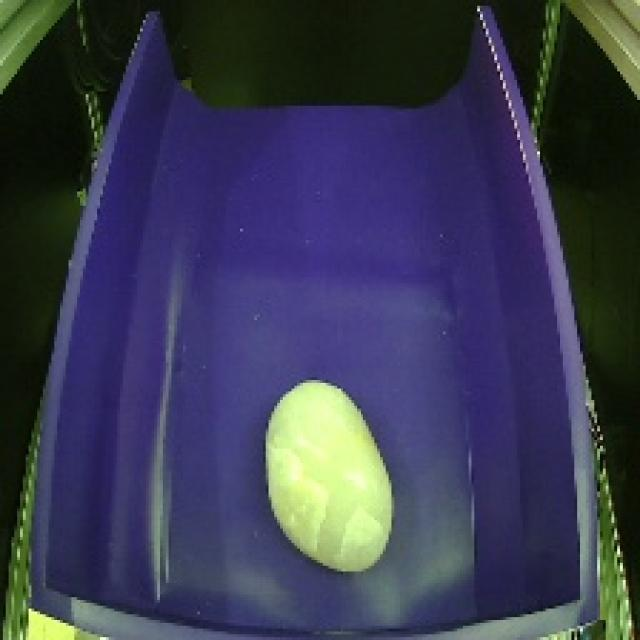cobbles: (258, 370, 400, 580)
